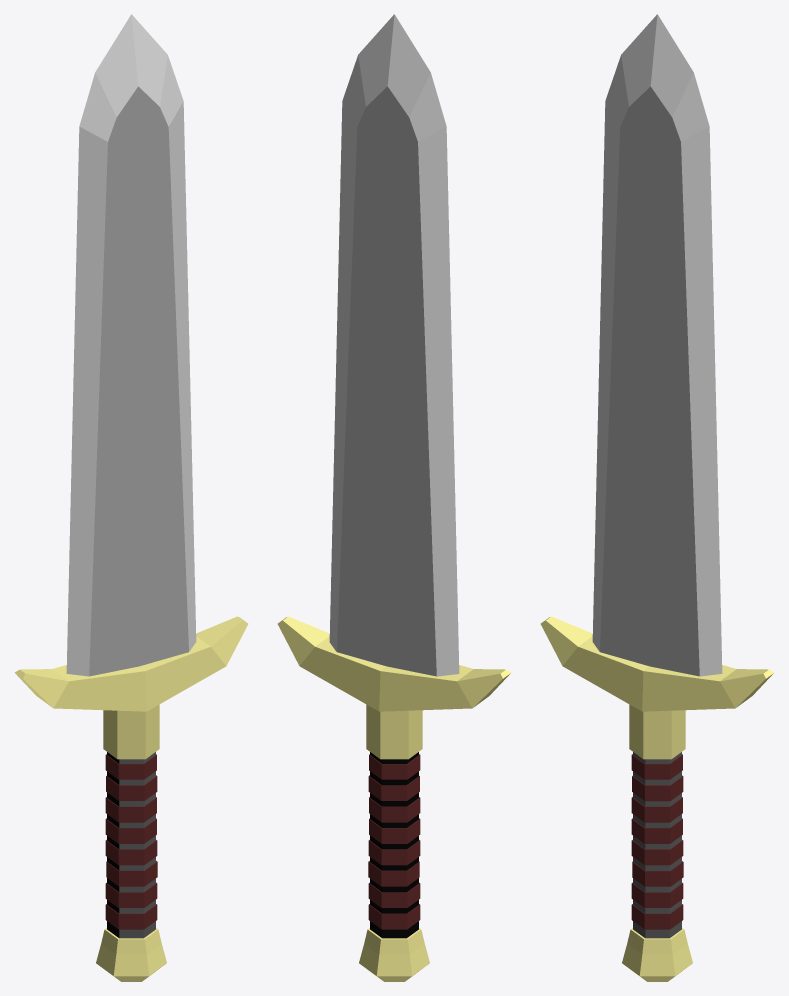
The model's file is Greatsword.fbx.
3 views of the same model, side by side, from view 1: azimuth 30°, elevation 25°; view 2: azimuth 150°, elevation 25°; view 3: azimuth 330°, elevation 25° (orthographic).
Parts seen in each view (by area): view 1: Greatsword; view 2: Greatsword; view 3: Greatsword.
Part boxes in pixels (x1,y1,x2,y2): Greatsword: (14,14,248,981); Greatsword: (277,14,511,981); Greatsword: (540,14,774,981).
Size of the model in its own units: 66.19 by 269 by 18.11.
